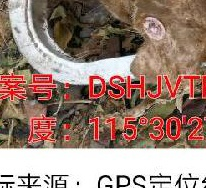text: (133, 5, 178, 46)
